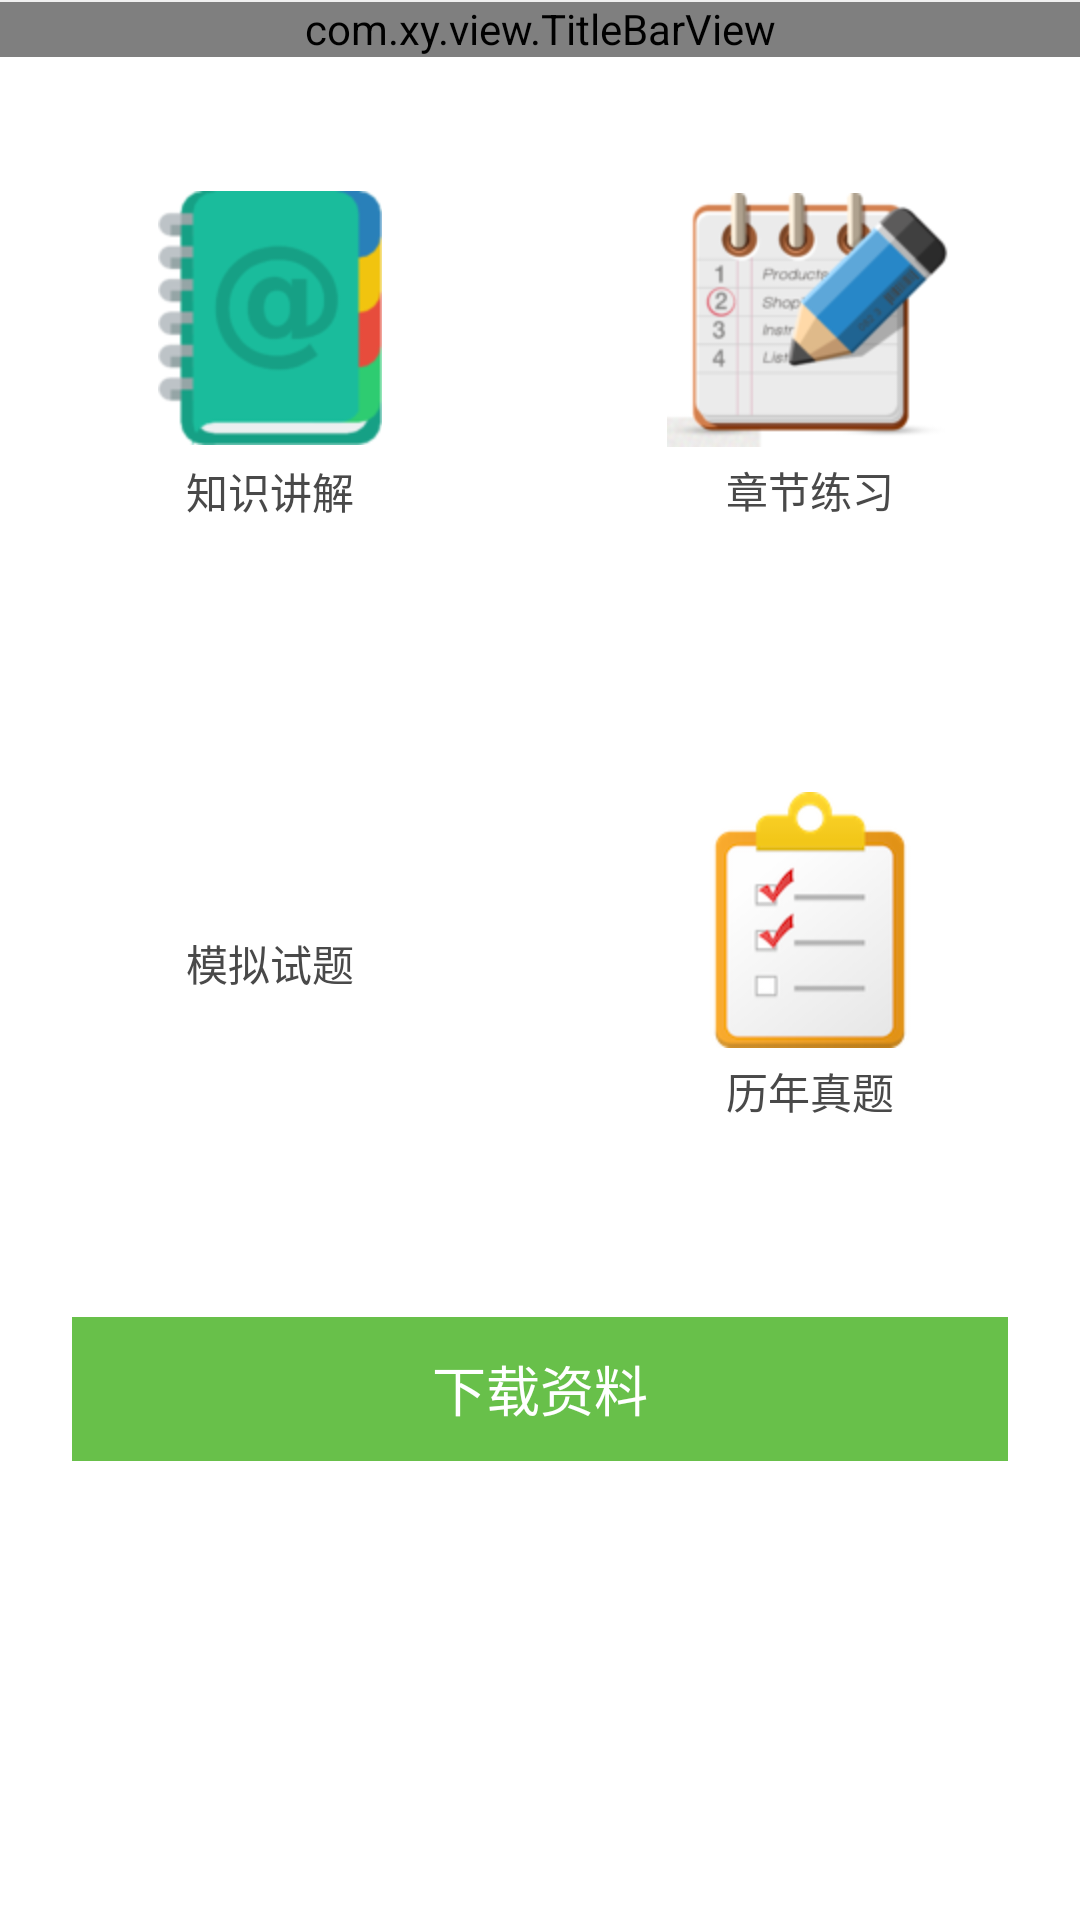

Named icons in this screenshot (1080×1920) and their centers, [x,y]:
course book: [270,318]
